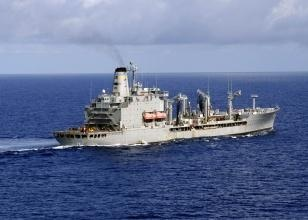warship: (54, 60, 280, 148)
